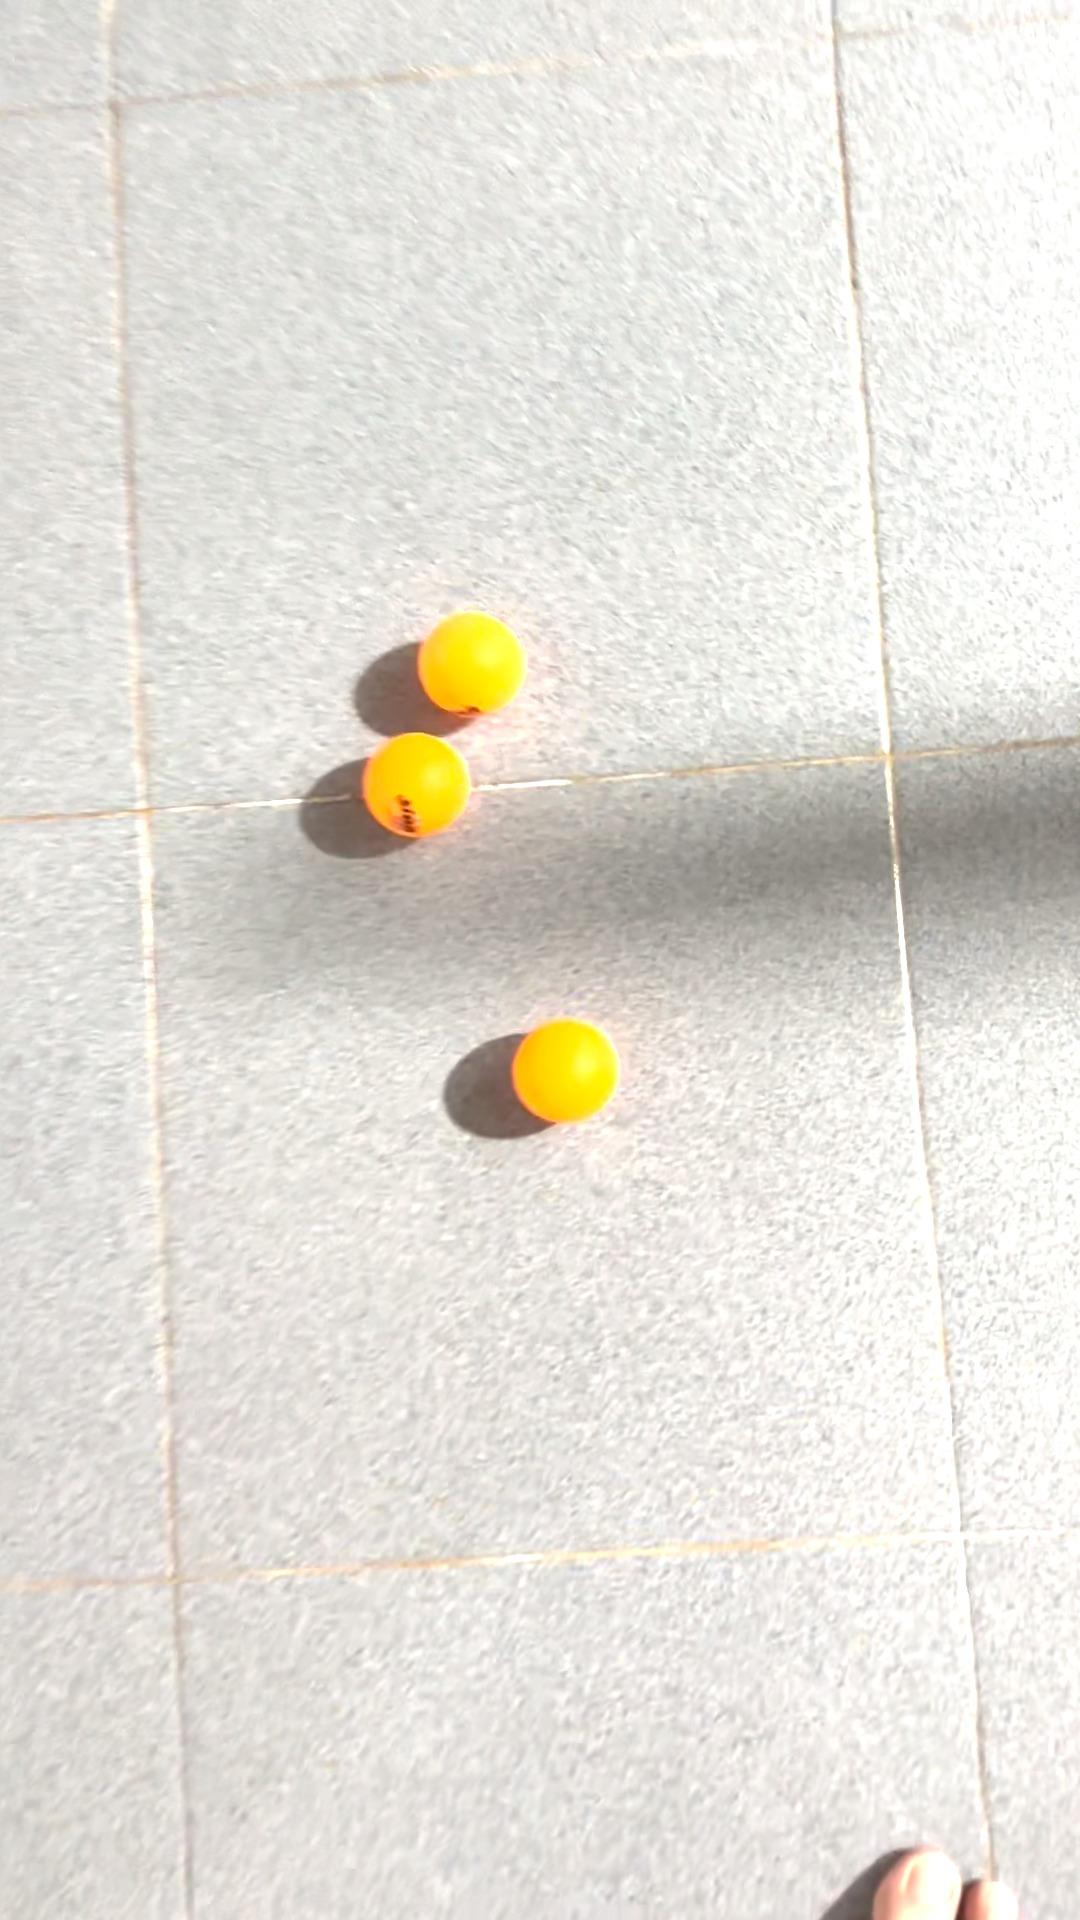oball: (501, 1011, 632, 1135), (351, 731, 481, 848), (411, 611, 538, 726)
